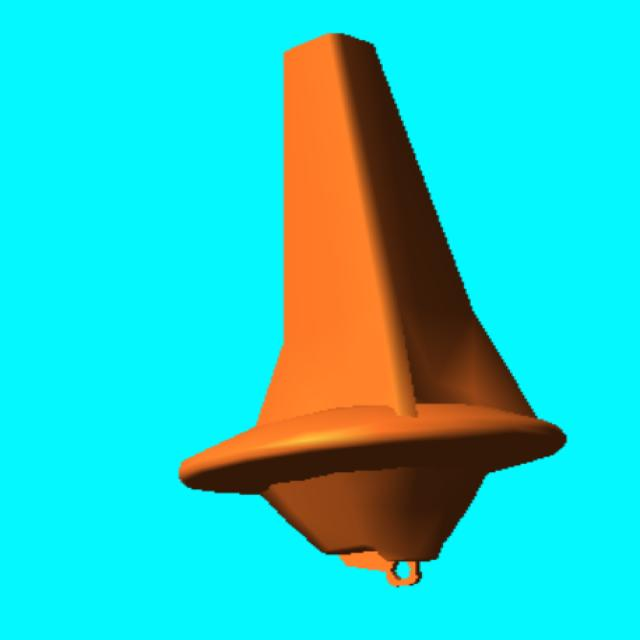OrangeBuoy: (180, 35, 566, 584)
